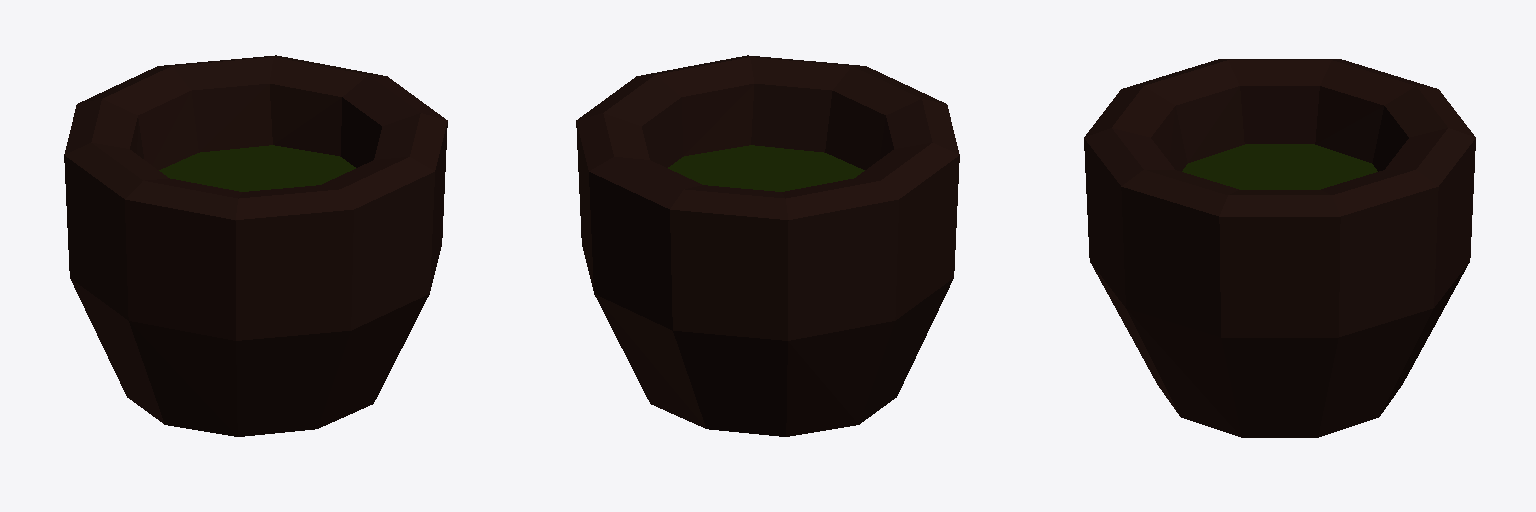
File: cup_filled.obj
3 views of the same model, side by side, from view 1: azimuth 30°, elevation 25°; view 2: azimuth 150°, elevation 25°; view 3: azimuth 270°, elevation 25° (orthographic).
Visible parts, largest first — view 1: cup_filled_Cylinder.293; view 2: cup_filled_Cylinder.293; view 3: cup_filled_Cylinder.293.
Part boxes in pixels (bbox=[...]): cup_filled_Cylinder.293: bbox=[64, 55, 447, 436]; cup_filled_Cylinder.293: bbox=[576, 55, 959, 436]; cup_filled_Cylinder.293: bbox=[1084, 59, 1475, 437].
Bounding box in the file's own units: 0.2814 × 0.2134 × 0.2959.